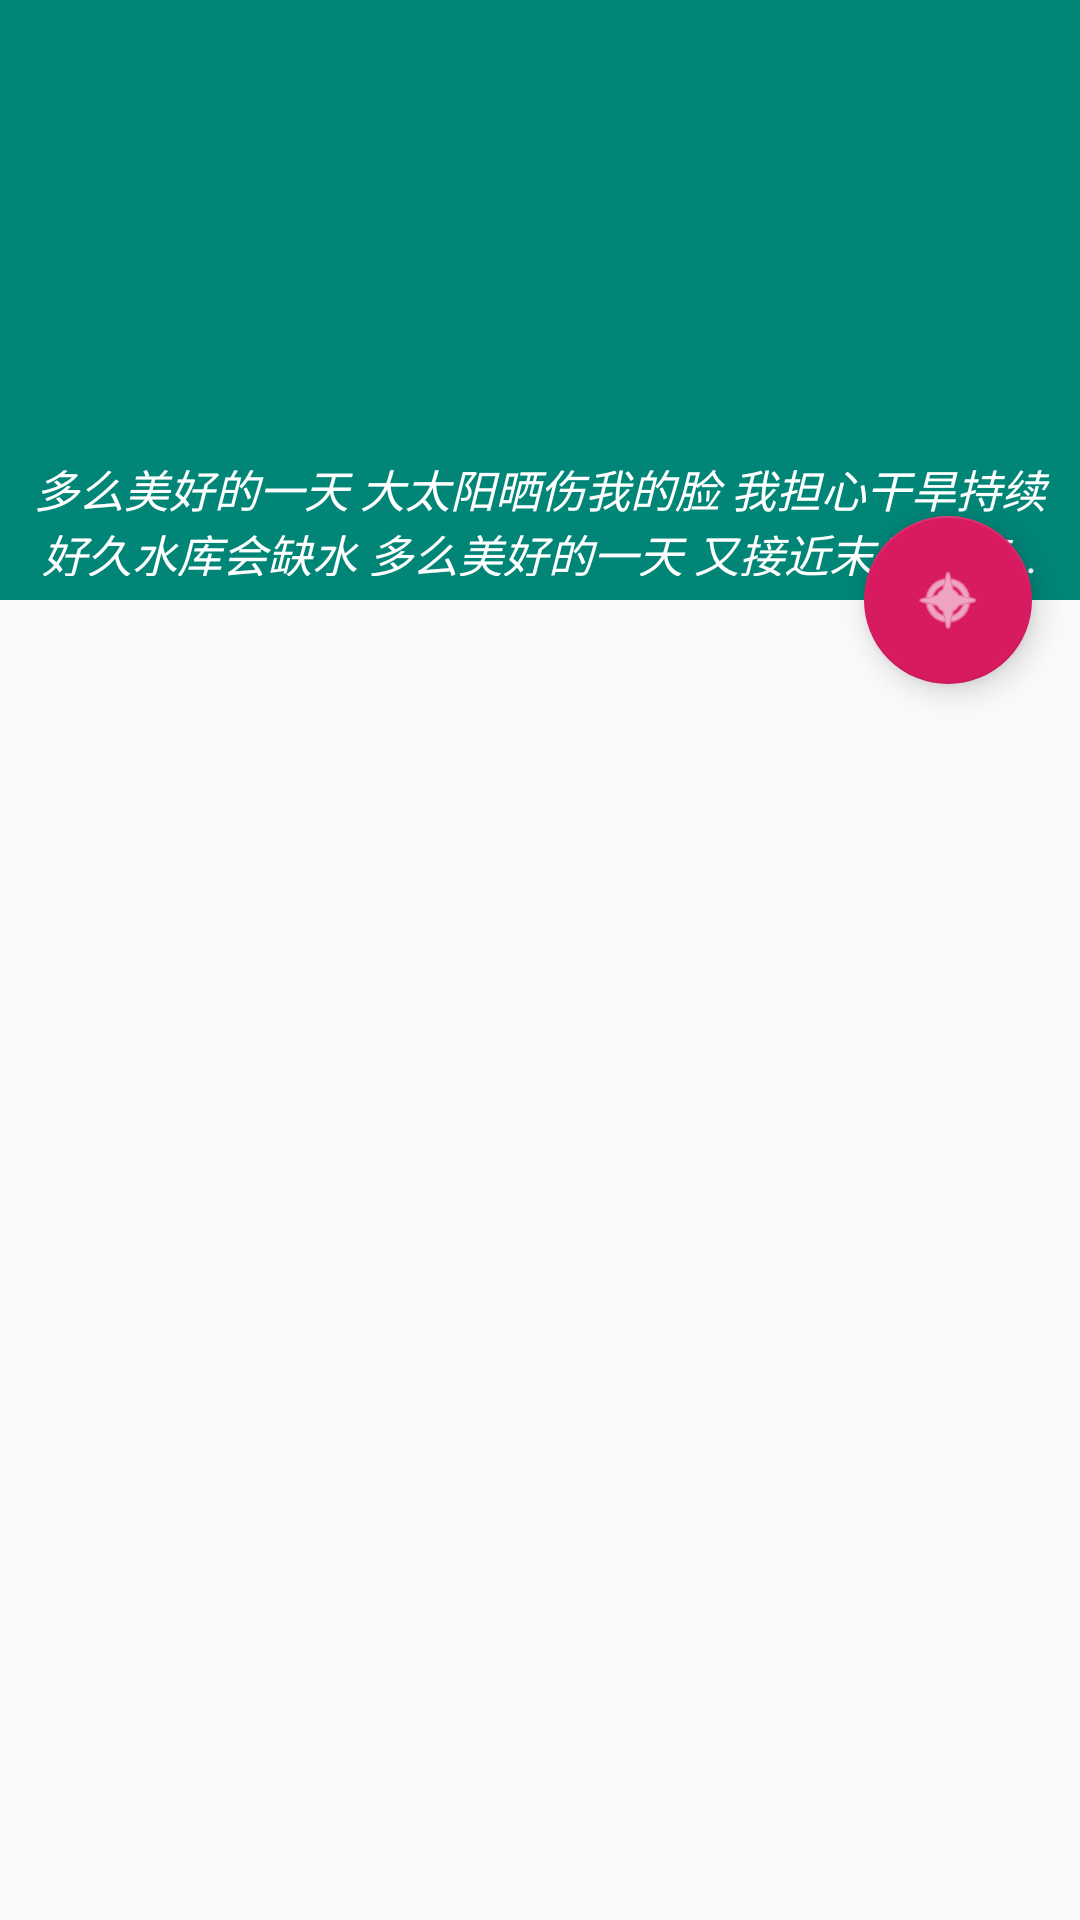

Icons on this 1080w x 1920h Android screen, each with the point to tap as [x,y]:
compass: [948,600]
